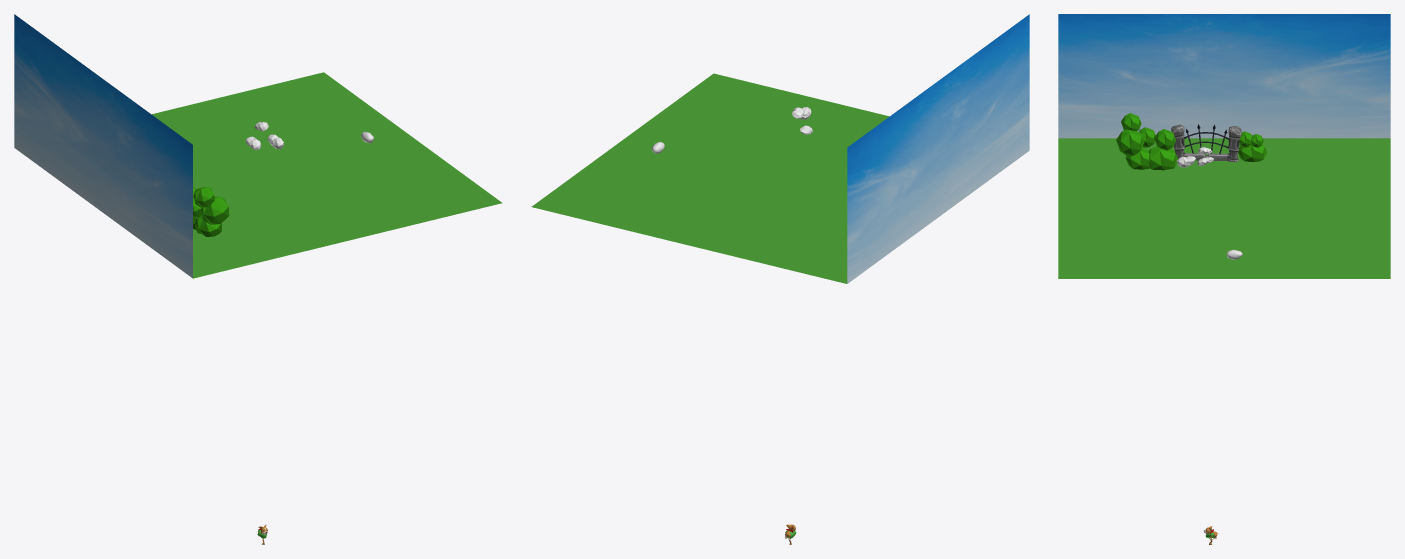
Rendered from theme 02.fbx.
The picture shows the model from 3 angles, left to right: view 1: azimuth 30°, elevation 25°; view 2: azimuth 150°, elevation 25°; view 3: azimuth 270°, elevation 25°; orthographic projection. The views are drawn at different scales.
Visible parts, largest first — view 1: Plane, Sphere.008; view 2: Plane; view 3: Plane, model_0, Sphere.008, Sphere.005, Sphere.011.
Boxes of the visible parts, x1,y1,x2,y2 form: Plane: (14, 14, 502, 278); Sphere.008: (201, 196, 229, 224); Plane: (531, 14, 1029, 283); Plane: (1058, 14, 1390, 278); model_0: (1171, 124, 1241, 161); Sphere.008: (1116, 129, 1144, 156); Sphere.005: (1148, 146, 1178, 170); Sphere.011: (1238, 144, 1267, 161).
Bounding box in the file's own units: 921 × 1412 × 921.
10 materials, 6 textured.
